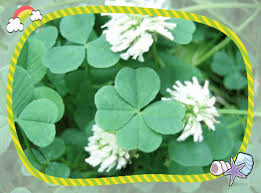4-clover: (96, 66, 186, 156)
